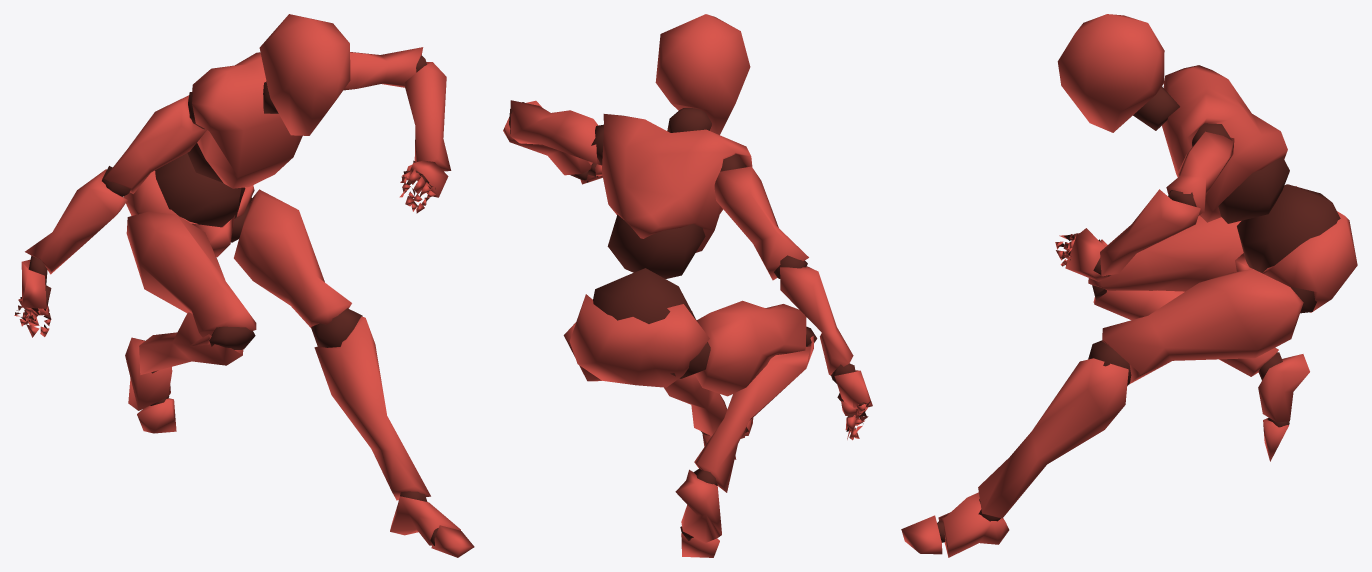
The picture shows the model from 3 angles, left to right: view 1: azimuth 30°, elevation 25°; view 2: azimuth 150°, elevation 25°; view 3: azimuth 270°, elevation 25°; orthographic projection. The views are drawn at different scales.
Parts seen in each view (by area): view 1: Beta_Surface; view 2: Beta_Surface; view 3: Beta_Surface.
Part boxes in pixels (box(x1,y1,x2,y2)): Beta_Surface: box(14, 14, 474, 557); Beta_Surface: box(503, 14, 872, 557); Beta_Surface: box(901, 14, 1357, 557).
Size of the model in its own units: 9.26 by 11.05 by 9.01.
